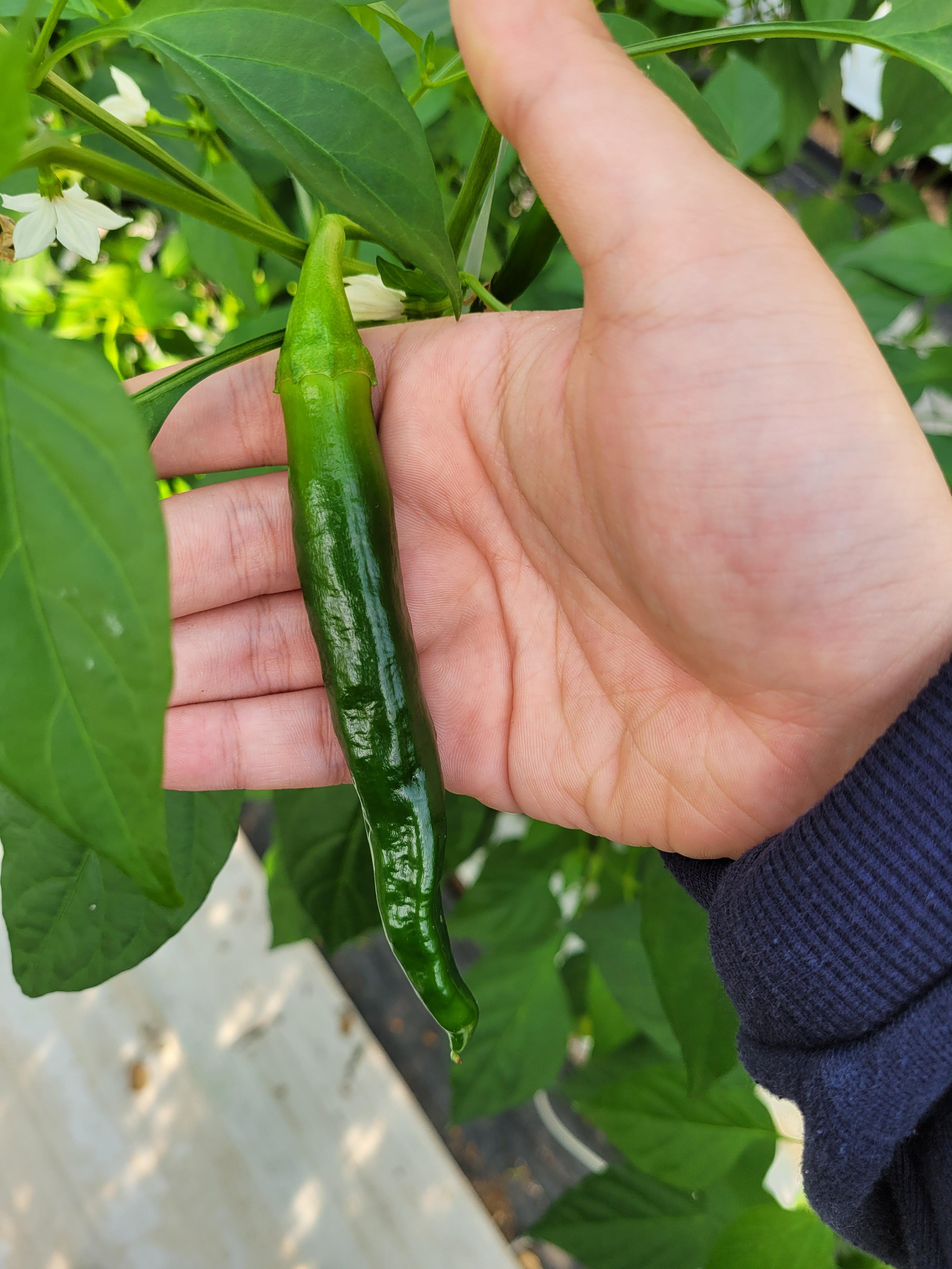Buah Cabai Sehat: (269, 310, 483, 1065)
Daun Cabai Sehat: (0, 272, 196, 935), (126, 0, 480, 314)
